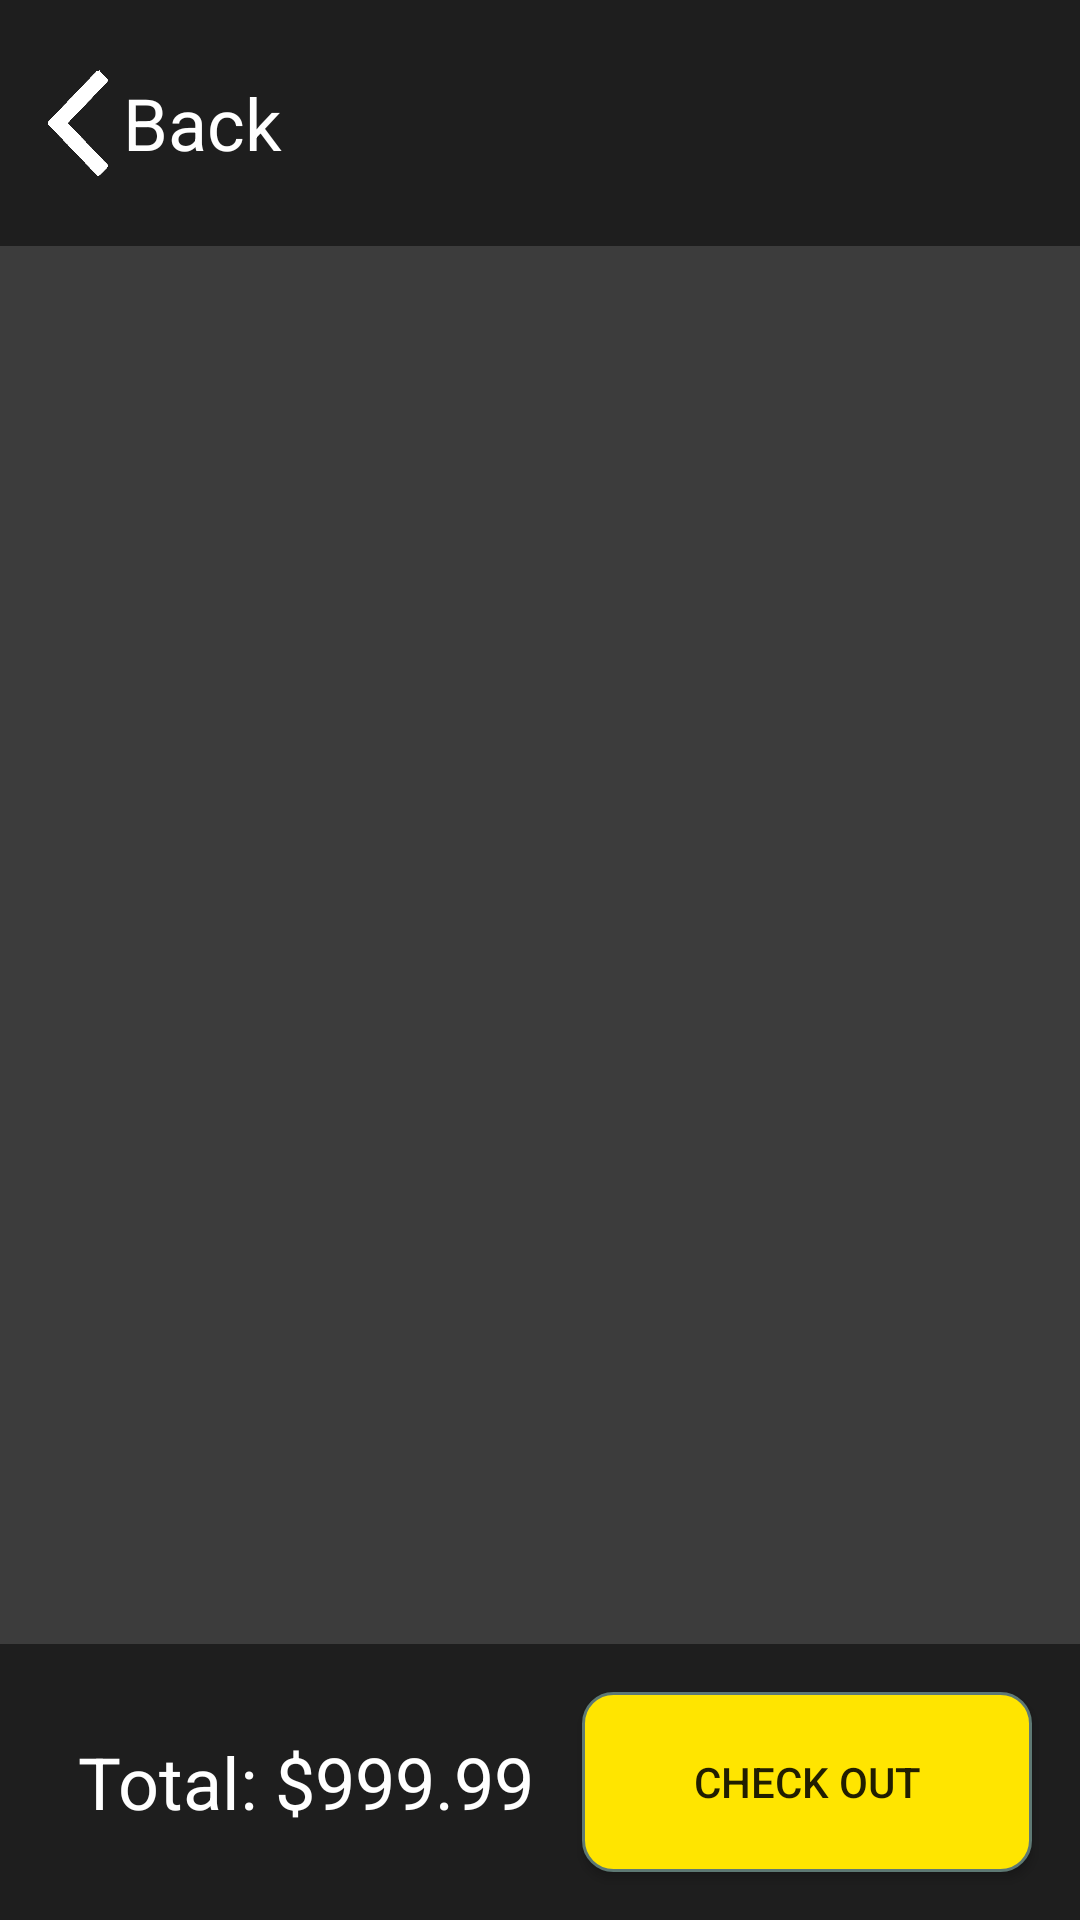

Icons on this 1080*1920 Android screen, each with its box as (x1, y1, x2, y2):
arrow left: (48, 70, 108, 176)
